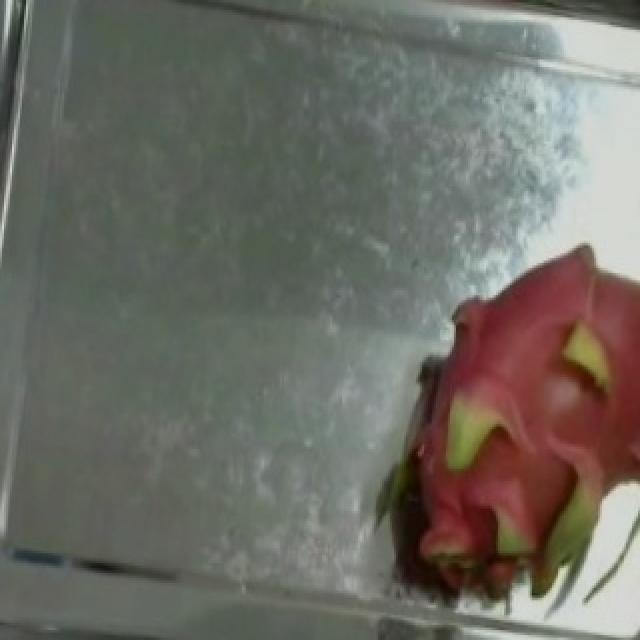fruit: (346, 225, 640, 640)
